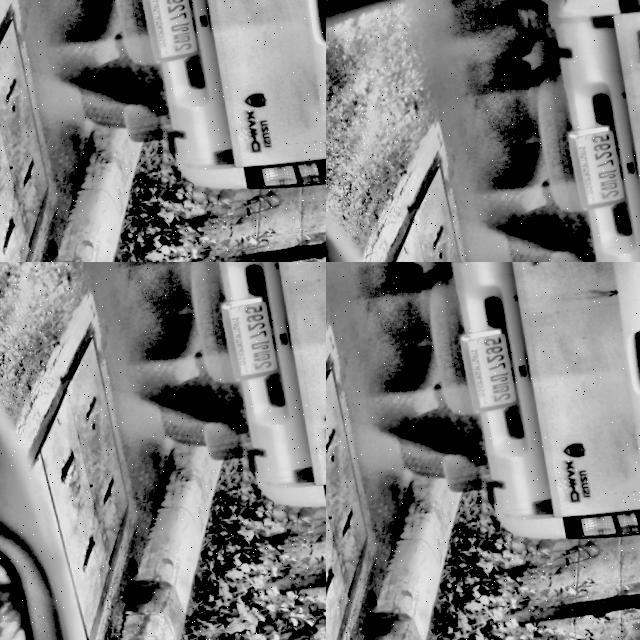license-plate: (454, 331, 521, 416)
